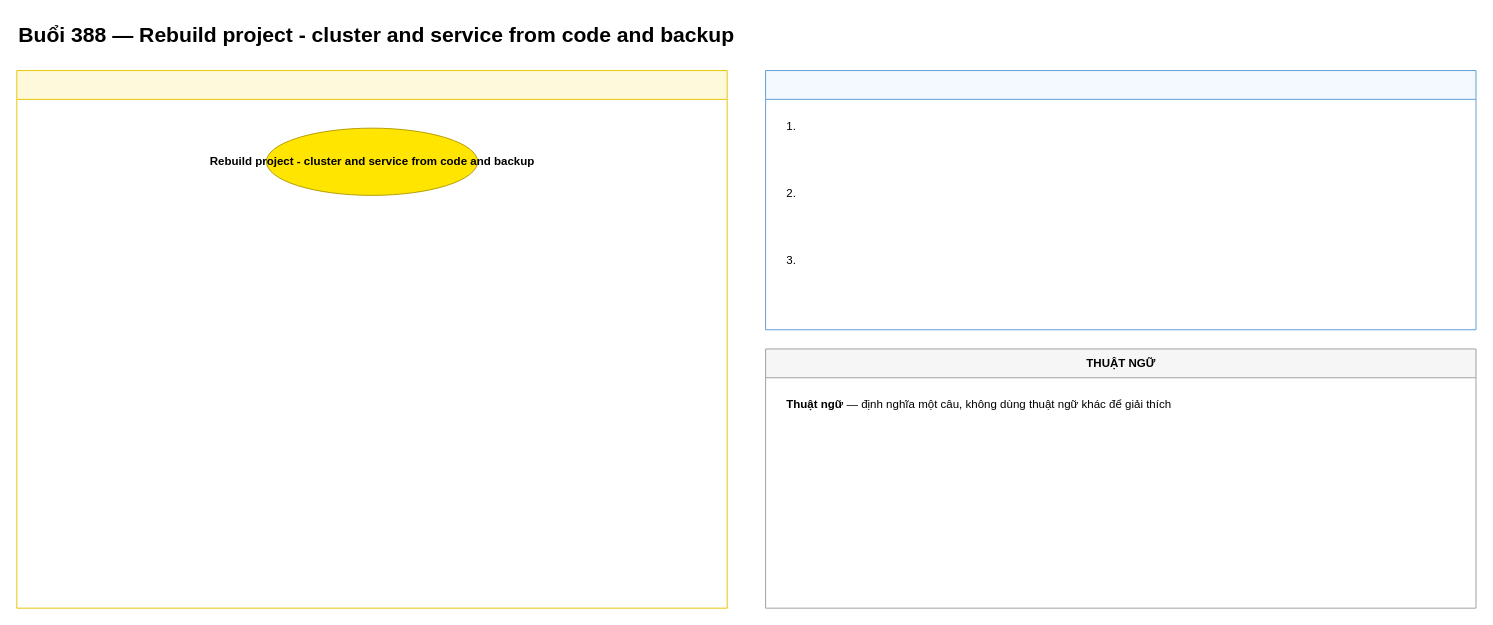
Some shapes in this 1493 by 625 pixel diagram are drawn without their labels. Here are the shapes that lost their labels. From the top down, the box of each, then its label:
(765, 70, 1476, 330): KEY TAKEAWAY — ba điều phải nhớ
(16, 70, 727, 608): MINDMAP
